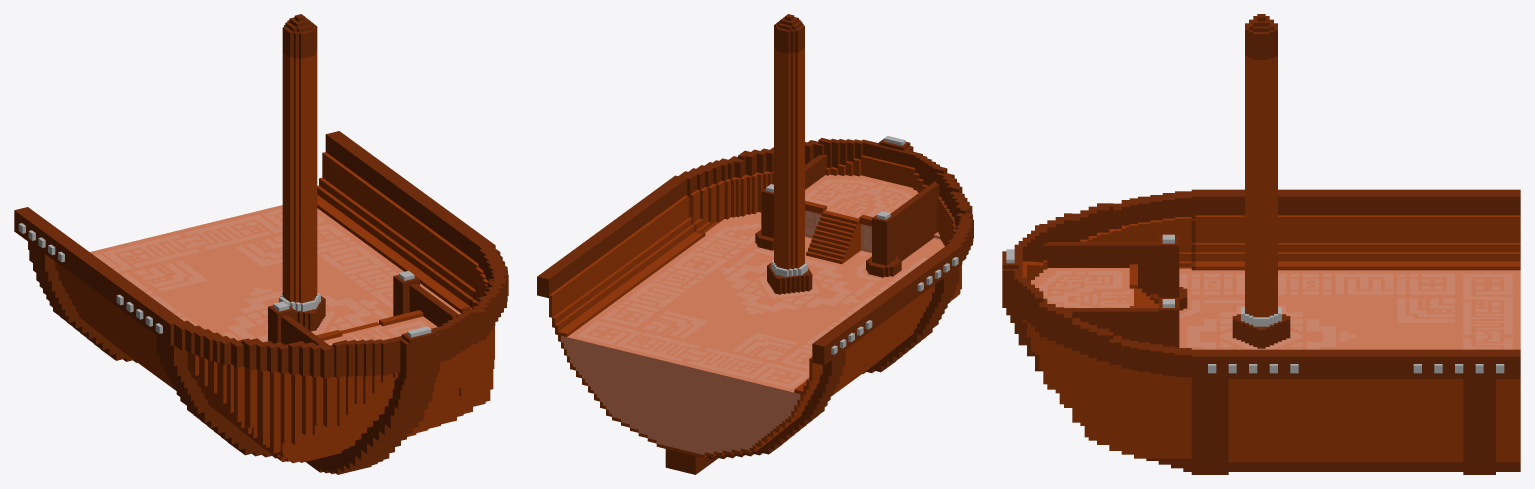
The model's file is BoatFront.obj.
3 views of the same model, side by side, from view 1: azimuth 30°, elevation 25°; view 2: azimuth 150°, elevation 25°; view 3: azimuth 270°, elevation 25° (orthographic). The views are drawn at different scales.
Size of the model in its own units: 98 by 120 by 126.
1 material, 1 textured.
